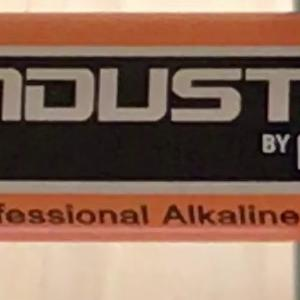ALK: (153, 195, 205, 234)
